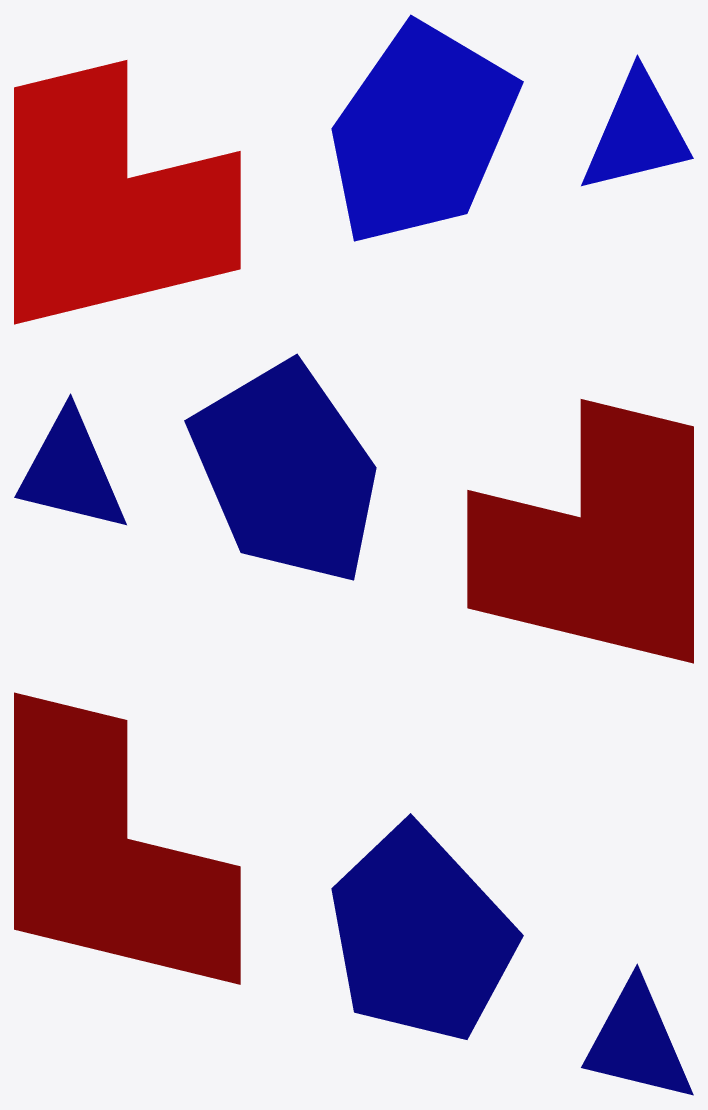
Rendered from ngon_bin.fbx.
The picture shows the model from 3 angles, top to bottom: view 1: azimuth 30°, elevation 25°; view 2: azimuth 150°, elevation 25°; view 3: azimuth 330°, elevation 25°; orthographic projection.
Parts seen in each view (by area): view 1: NGon; view 2: NGon; view 3: NGon.
Part boxes in pixels (bbox=[...]): NGon: bbox=[14, 14, 693, 324]; NGon: bbox=[14, 353, 693, 663]; NGon: bbox=[14, 692, 693, 1095].
Size of the model in its own units: 6 by 2 by 0.
